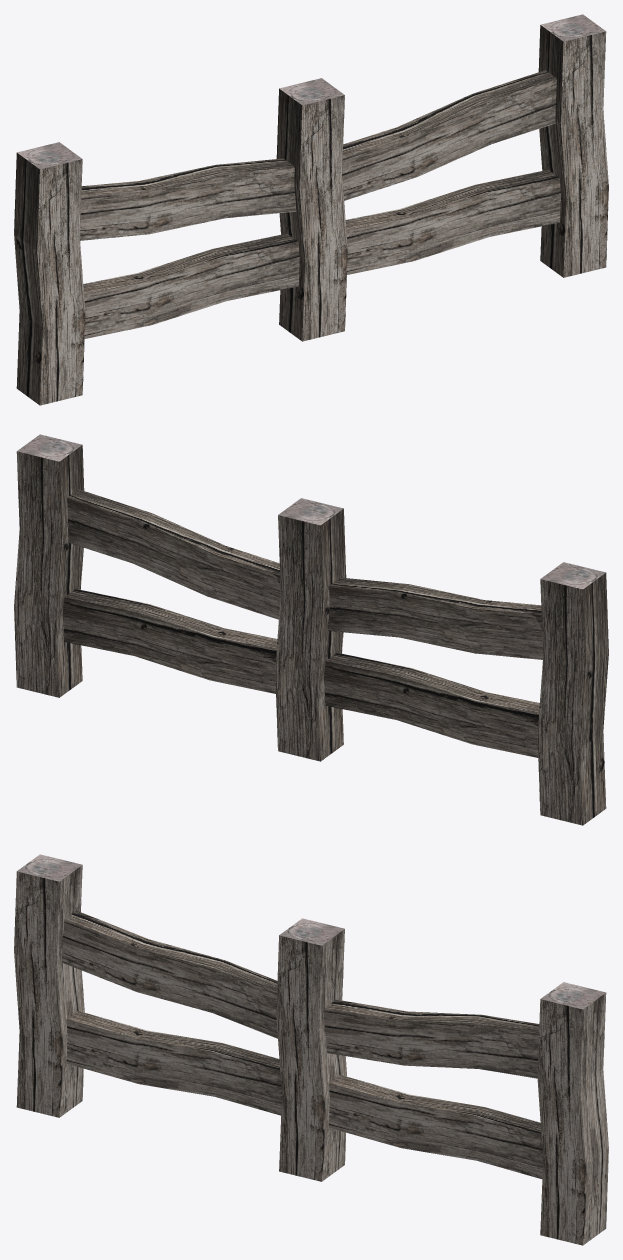
Rendered from Fence.fbx.
3 renders of one model, top to bottom at view 1: azimuth 30°, elevation 25°; view 2: azimuth 150°, elevation 25°; view 3: azimuth 330°, elevation 25°, orthographic.
Parts seen in each view (by area): view 1: wood.003, wood, wood.006, wood.002, wood.004, wood.001, wood.005; view 2: wood.003, wood, wood.006, wood.002, wood.004, wood.001, wood.005; view 3: wood.006, wood.003, wood, wood.005, wood.004, wood.001, wood.002.
Boxes of the visible parts, box(x1,y1,x2,y2) form: wood.003: box(14, 142, 85, 405); wood: box(276, 78, 347, 341); wood.006: box(538, 14, 608, 277); wood.002: box(342, 70, 556, 200); wood.004: box(83, 233, 299, 338); wood.001: box(345, 169, 560, 274); wood.005: box(80, 158, 296, 240); wood.003: box(537, 562, 608, 825); wood: box(275, 498, 346, 761); wood.006: box(14, 434, 84, 697); wood.002: box(67, 489, 280, 619); wood.004: box(324, 652, 539, 757); wood.001: box(63, 589, 277, 693); wood.005: box(327, 577, 542, 659); wood.006: box(537, 982, 608, 1245); wood.003: box(14, 854, 84, 1117); wood: box(276, 918, 346, 1181); wood.005: box(62, 910, 277, 1038); wood.004: box(66, 1011, 281, 1115); wood.001: box(329, 1075, 542, 1178); wood.002: box(324, 999, 539, 1078).
Size of the model in its own units: 1.94 by 0.7648 by 0.1365.
